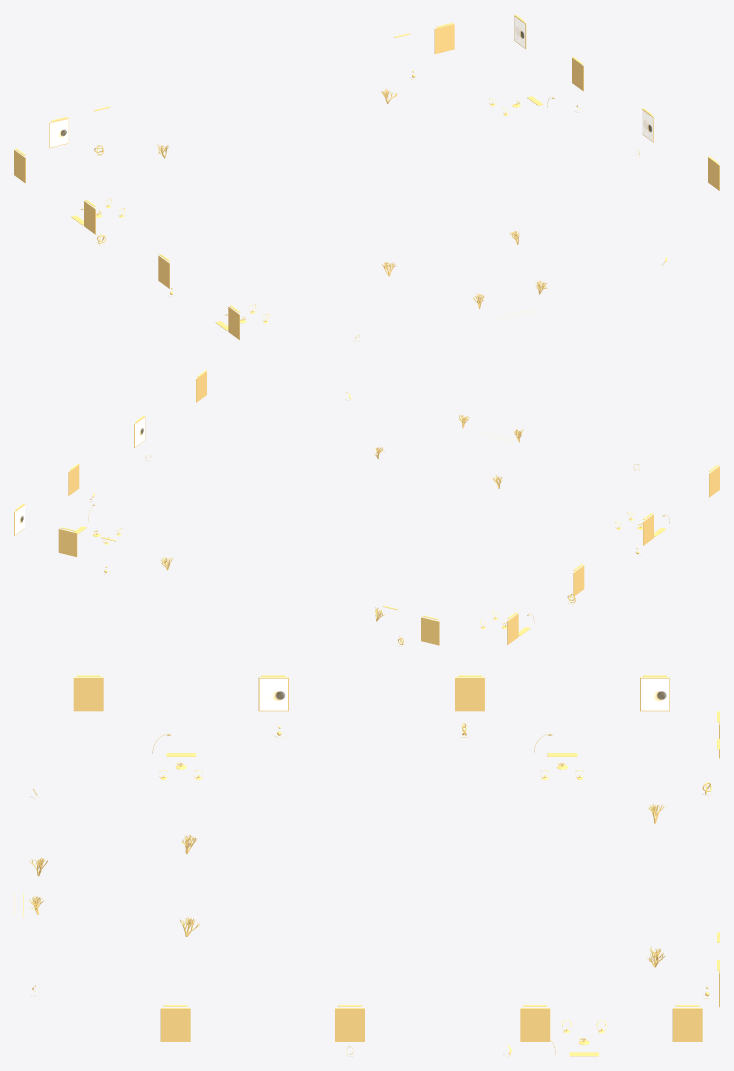
File: tb_decor2_p1.glb
3 views of the same model, one above another, from view 1: azimuth 30°, elevation 25°; view 2: azimuth 150°, elevation 25°; view 3: azimuth 270°, elevation 25° (orthographic). The views are drawn at different scales.
Visible parts, largest first — view 1: tb_decor_p1; view 2: tb_decor_p1; view 3: tb_decor_p1.
Boxes of the visible parts, <box> form: tb_decor_p1: <box>14,14,719,341</box>; tb_decor_p1: <box>14,370,719,646</box>; tb_decor_p1: <box>14,675,719,1056</box>.
Size of the model in its own units: 71.92 by 6.53 by 64.81.
Materials: 4 (1 with a texture image).
